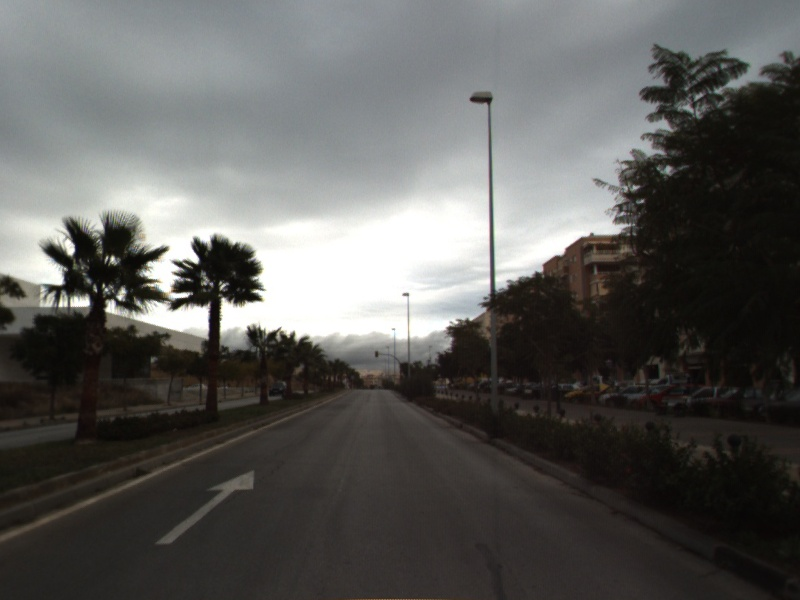STRAIGHT: (153, 467, 257, 546)
